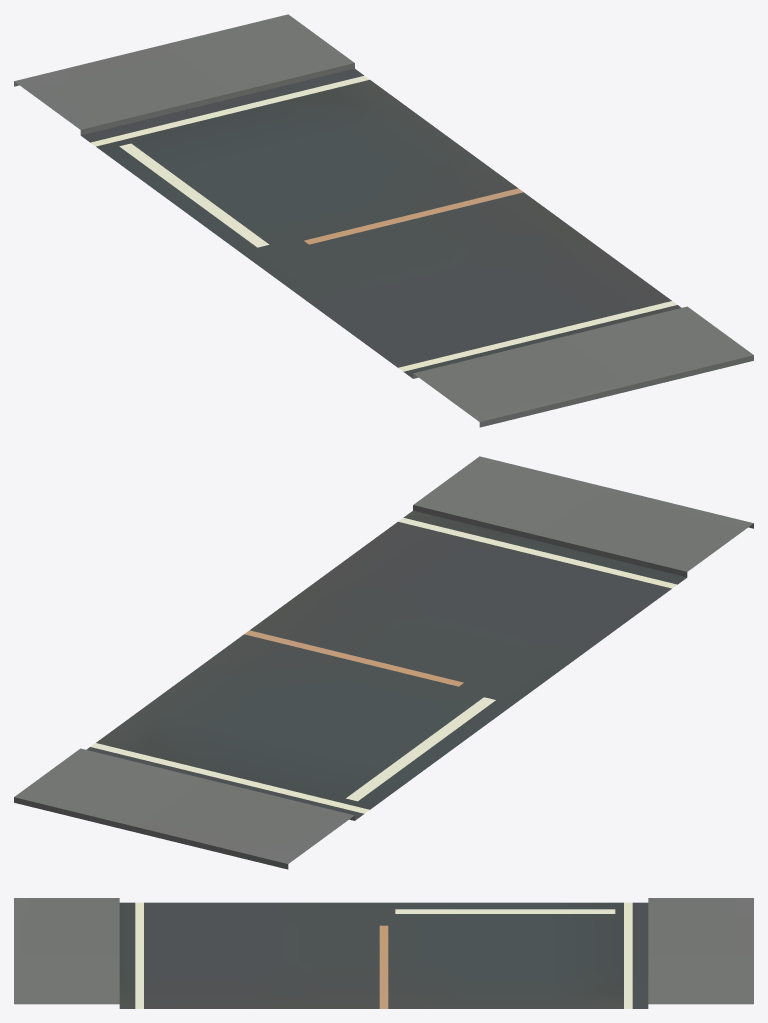
Rendered from city_road_stopline.glb.
3 views of the same model, one above another, from view 1: azimuth 30°, elevation 25°; view 2: azimuth 150°, elevation 25°; view 3: azimuth 270°, elevation 25° (orthographic). The views are drawn at different scales.
Visible parts, largest first — view 1: Road_Stopline_2; view 2: Road_Stopline_2; view 3: Road_Stopline_2.
Part boxes in pixels (box(x1,y1,x2,y2)): Road_Stopline_2: box(14, 14, 753, 427); Road_Stopline_2: box(14, 456, 753, 869); Road_Stopline_2: box(14, 898, 753, 1008).
Size of the model in its own units: 2.04 by 0.0396 by 6.
Materials: 1 (1 with a texture image).
